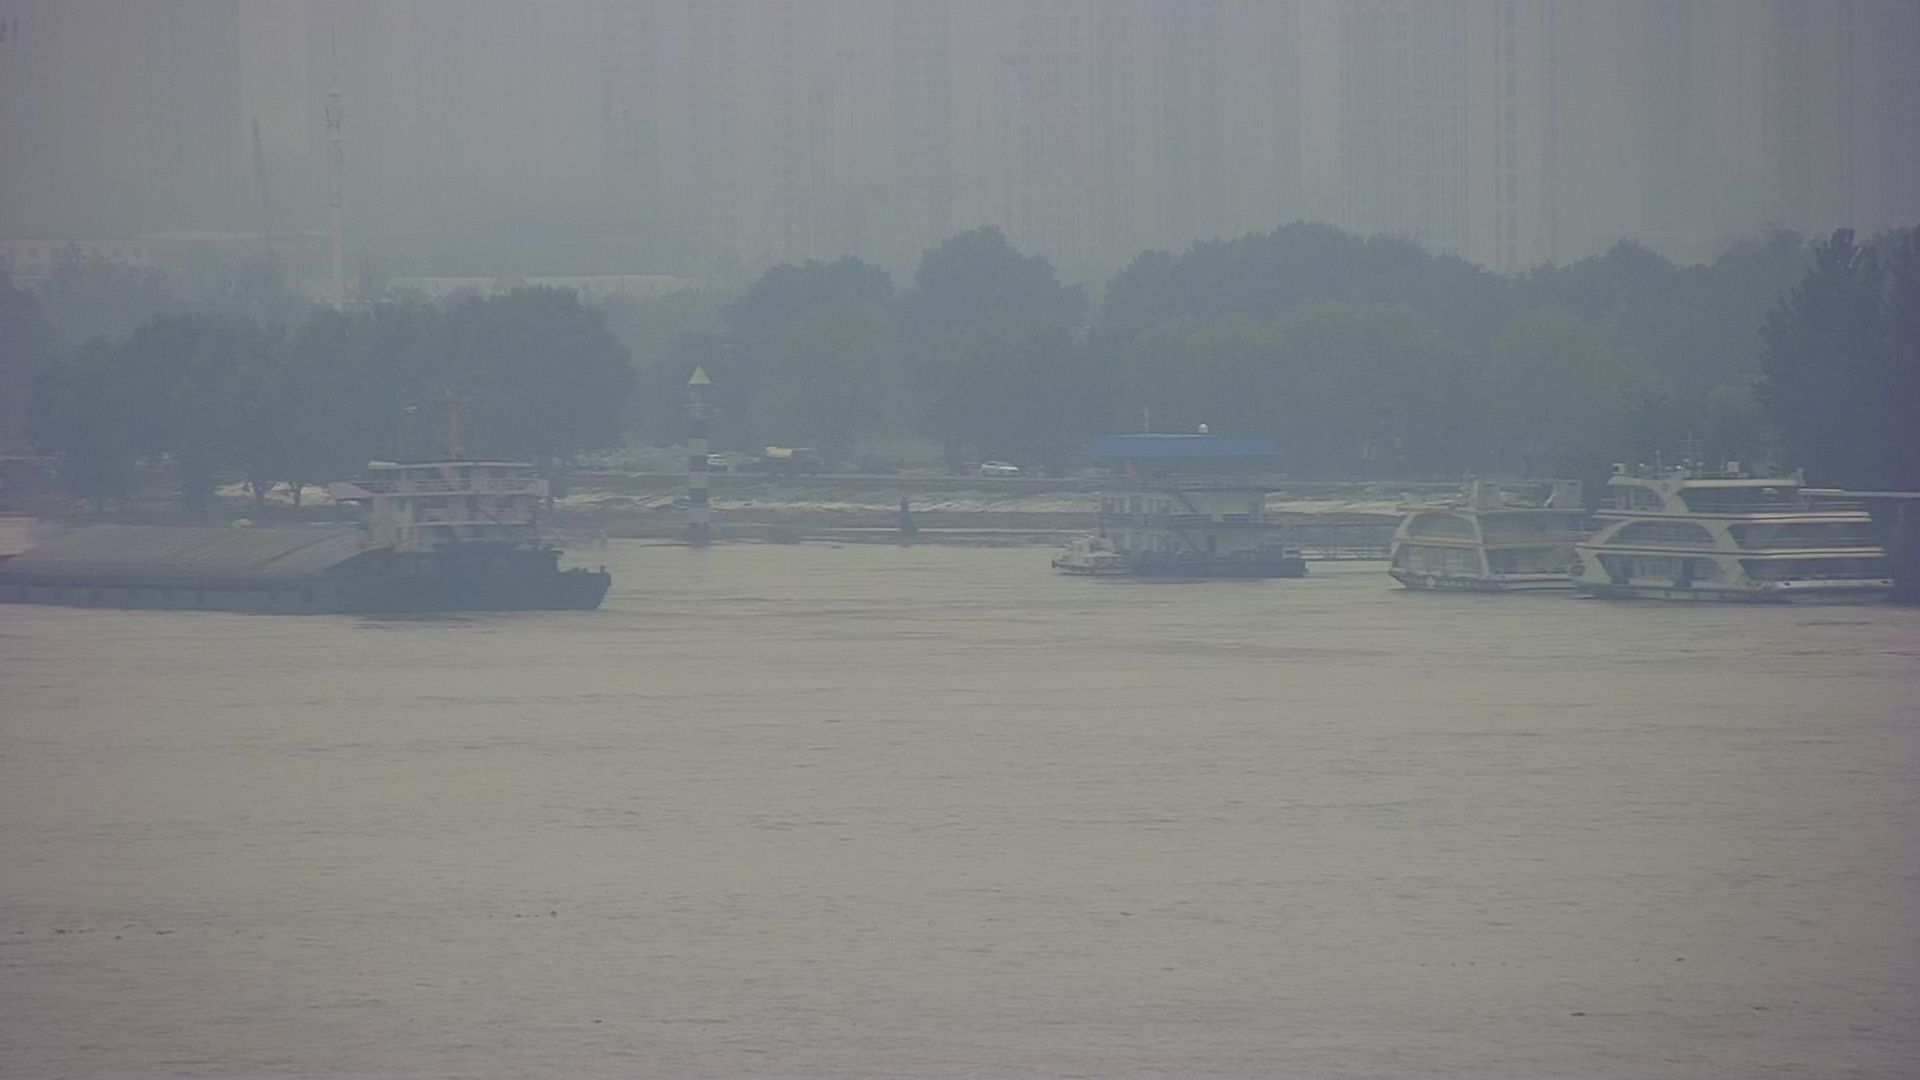ship: (1, 376, 625, 626), (1568, 419, 1902, 608), (1036, 384, 1331, 589), (1367, 440, 1592, 600)
